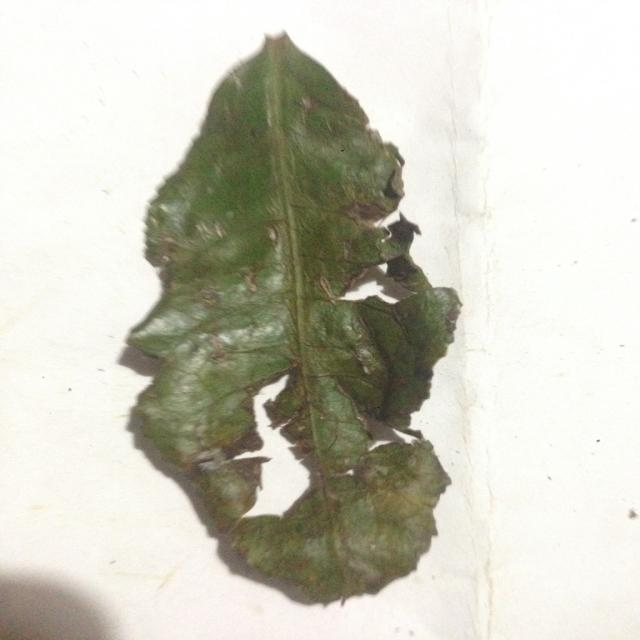Red Leaf Spot: (101, 16, 493, 610)
